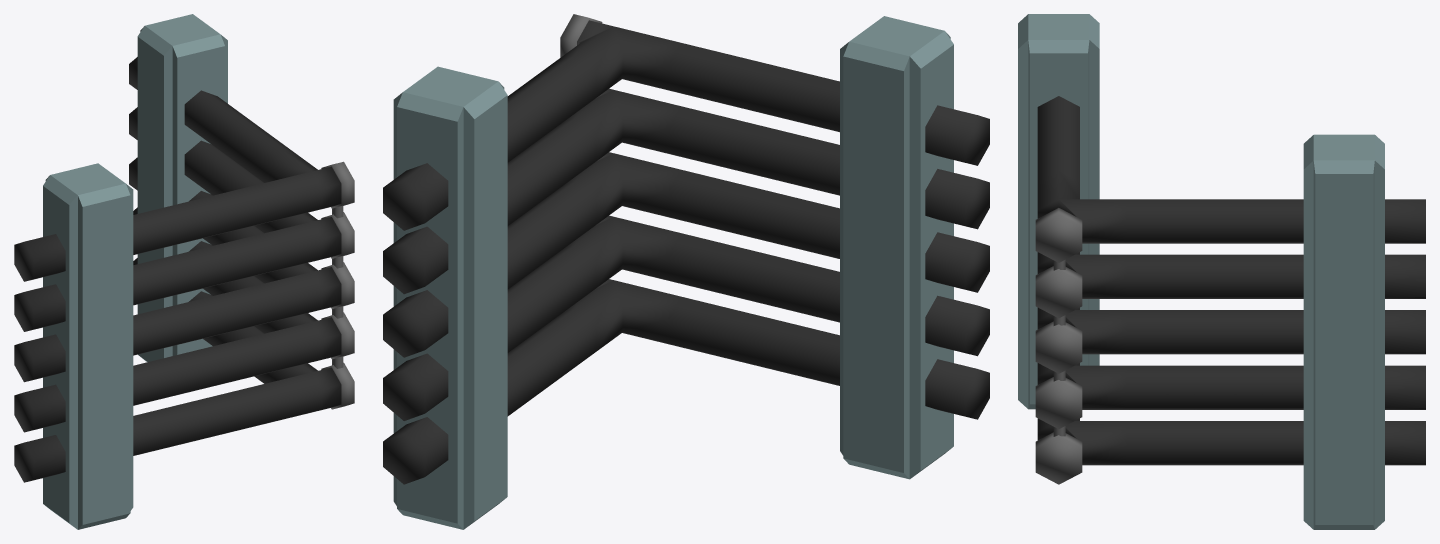
3 renders of one model, left to right at view 1: azimuth 30°, elevation 25°; view 2: azimuth 150°, elevation 25°; view 3: azimuth 270°, elevation 25°, orthographic. The views are drawn at different scales.
Visible parts, largest first — view 1: SW_1x-5x-1_c_h; view 2: SW_1x-5x-1_c_h; view 3: SW_1x-5x-1_c_h.
Boxes of the visible parts, bbox=[...] form: SW_1x-5x-1_c_h: bbox=[14, 14, 354, 529]; SW_1x-5x-1_c_h: bbox=[383, 14, 989, 529]; SW_1x-5x-1_c_h: bbox=[1018, 14, 1425, 529].
Size of what is drawn, in the model's own units: 50 by 50 by 50.
